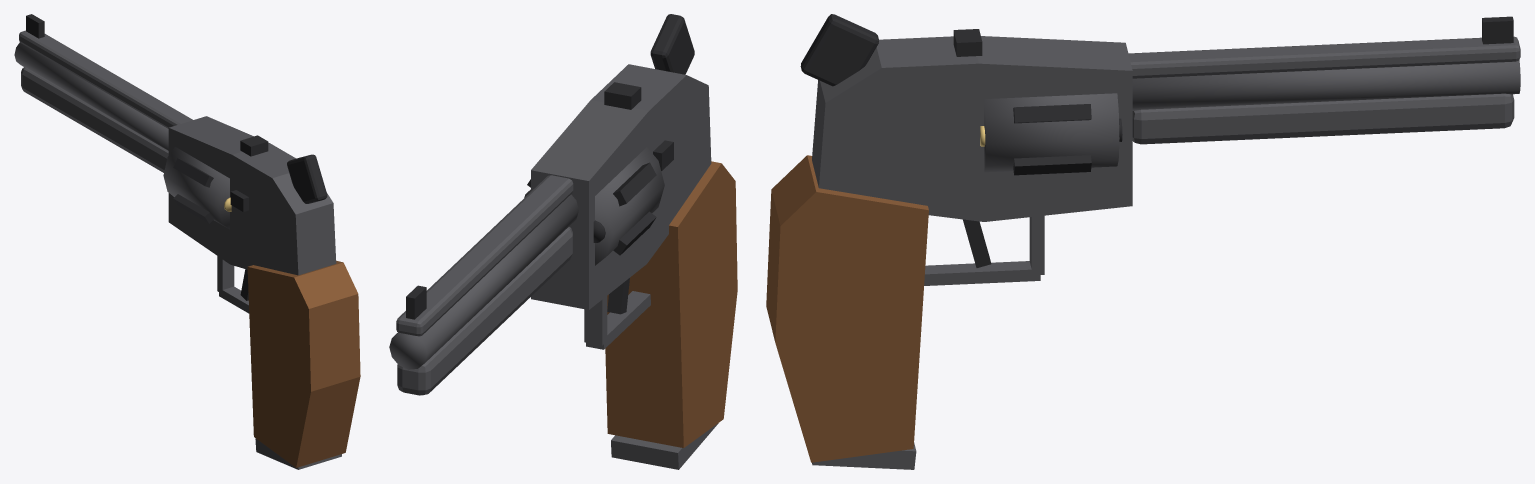
The model's file is revolver_world.glb.
3 renders of one model, left to right at view 1: azimuth 30°, elevation 25°; view 2: azimuth 150°, elevation 25°; view 3: azimuth 270°, elevation 25°, orthographic. The views are drawn at different scales.
Parts seen in each view (by area): view 1: Grip, Frame, Underlug, Rib, Barrel, Cylinder, Hammer, GuardFront, Flute2, GripCap, RearSight, Flute3 (+2 smaller); view 2: Grip, Frame, Rib, Underlug, Barrel, Cylinder, GripCap, Hammer, TriggerGuard, GuardFront, RearSight, Flute2 (+4 smaller); view 3: Frame, Grip, Underlug, Barrel, Rib, Cylinder, Hammer, TriggerGuard, Flute5, GripCap, Flute0, GuardFront (+3 smaller).
Boxes of the visible parts, <box> form: Grip: <box>247,260,360,467</box>; Frame: <box>168,116,336,275</box>; Underlug: <box>21,67,168,172</box>; Rib: <box>19,30,192,128</box>; Barrel: <box>14,42,168,150</box>; Cylinder: <box>163,147,229,229</box>; Hammer: <box>287,154,327,203</box>; GuardFront: <box>217,256,234,293</box>; Flute2: <box>173,158,213,187</box>; GripCap: <box>255,438,341,469</box>; RearSight: <box>240,135,268,156</box>; Flute3: <box>173,194,213,223</box>; Grip: <box>605,161,737,447</box>; Frame: <box>531,64,711,309</box>; Rib: <box>396,175,573,336</box>; Underlug: <box>397,227,572,395</box>; Barrel: <box>389,194,578,369</box>; Cylinder: <box>524,147,664,265</box>; GripCap: <box>611,423,718,469</box>; Hammer: <box>650,14,694,74</box>; TriggerGuard: <box>586,291,650,349</box>; GuardFront: <box>584,296,607,345</box>; RearSight: <box>604,82,641,109</box>; Flute2: <box>613,162,656,206</box>; Frame: <box>812,36,1132,221</box>; Grip: <box>766,155,928,462</box>; Underlug: <box>1132,93,1514,144</box>; Barrel: <box>1132,59,1520,110</box>; Rib: <box>1128,36,1520,78</box>; Cylinder: <box>984,93,1119,172</box>; Hammer: <box>800,14,878,86</box>; TriggerGuard: <box>924,261,1040,285</box>; Flute5: <box>1013,155,1091,175</box>; GripCap: <box>812,442,916,469</box>; Flute0: <box>1013,104,1091,123</box>; GuardFront: <box>1029,215,1044,275</box>.
Bounding box in the file's own units: 0.0573 × 0.1937 × 0.3006.
